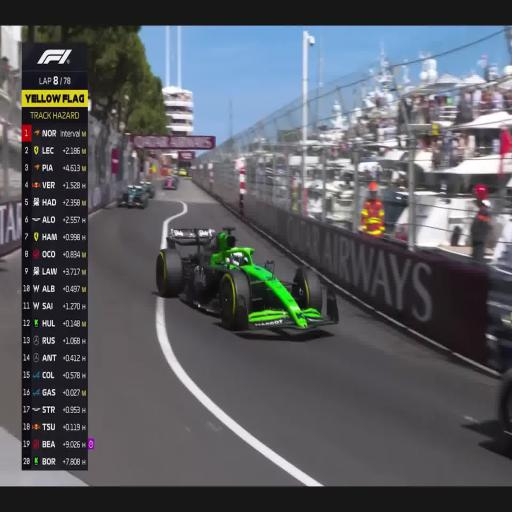f1_car: (156, 227, 338, 330), (117, 185, 149, 207), (141, 180, 155, 198), (162, 175, 179, 189)
